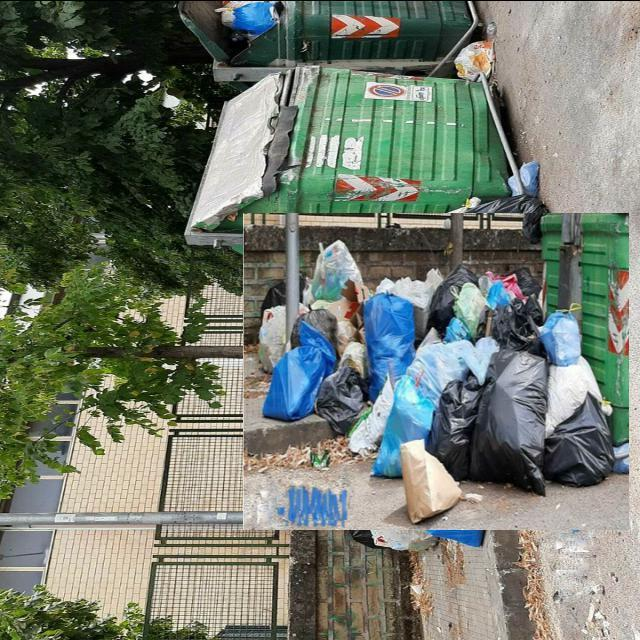Trashbag: (481, 359, 545, 489), (540, 398, 613, 482), (424, 381, 485, 471), (429, 269, 478, 331), (321, 369, 366, 434), (492, 298, 544, 348), (294, 306, 337, 343), (513, 270, 546, 302)
